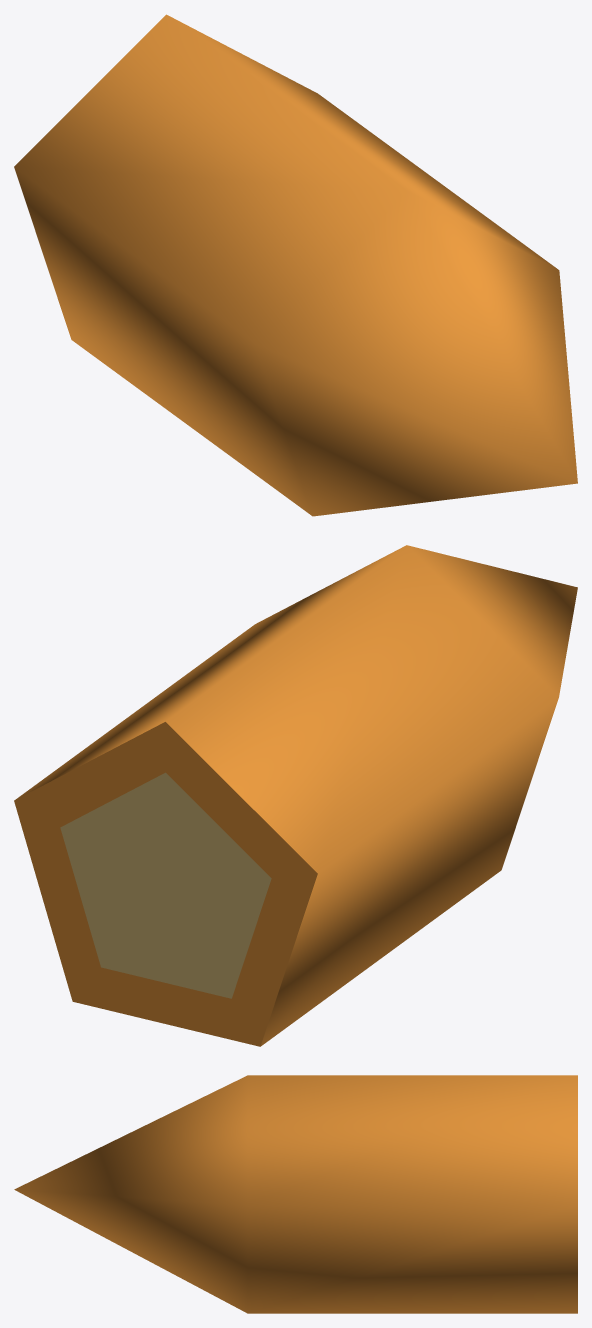
File: COL_Bullet.fbx
3 views of the same model, one above another, from view 1: azimuth 30°, elevation 25°; view 2: azimuth 150°, elevation 25°; view 3: azimuth 270°, elevation 25° (orthographic). The views are drawn at different scales.
Visible parts, largest first — view 1: COL_Bullet; view 2: COL_Bullet; view 3: COL_Bullet.
Boxes of the visible parts, bbox=[...] form: COL_Bullet: bbox=[14, 14, 577, 516]; COL_Bullet: bbox=[14, 545, 577, 1046]; COL_Bullet: bbox=[14, 1075, 577, 1313].
Bounding box in the file's own units: 6.27 × 5.97 × 14.73.
